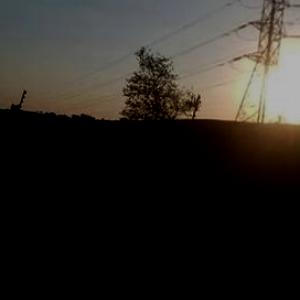follow: (80, 121, 154, 299)
